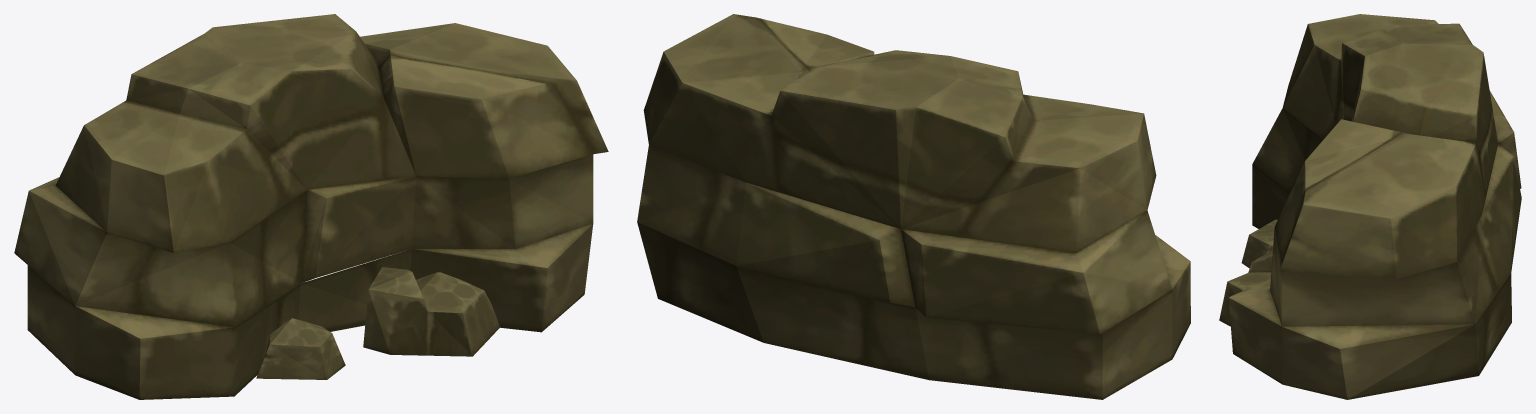
File: rockwall_straight_03.fbx
3 renders of one model, left to right at view 1: azimuth 30°, elevation 25°; view 2: azimuth 150°, elevation 25°; view 3: azimuth 270°, elevation 25°, orthographic. The views are drawn at different scales.
Parts seen in each view (by area): view 1: obj0.145; view 2: obj0.145; view 3: obj0.145.
Boxes of the visible parts, x1=… form: obj0.145: x1=14, y1=14, x2=608, y2=399; obj0.145: x1=637, y1=14, x2=1190, y2=399; obj0.145: x1=1219, y1=14, x2=1521, y2=399.
Size of the model in its own units: 4.39 by 2.07 by 2.56.
